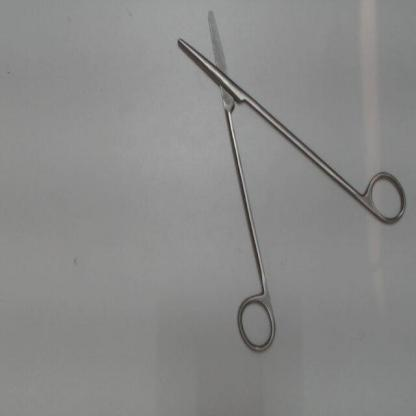9 Metzenbaum Scissors: (173, 7, 411, 362)
